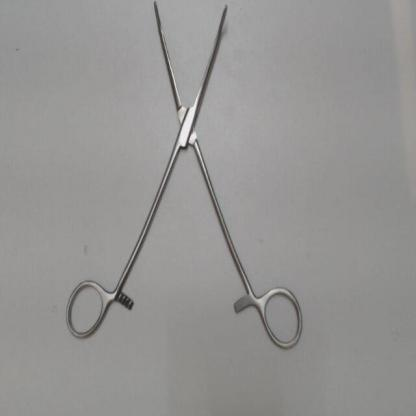Lahey Forceps: (60, 0, 310, 352)
